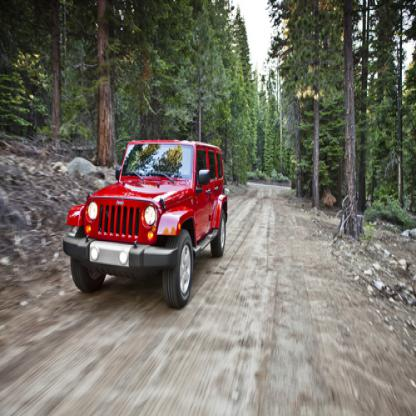Vehicle: (61, 131, 235, 320)
